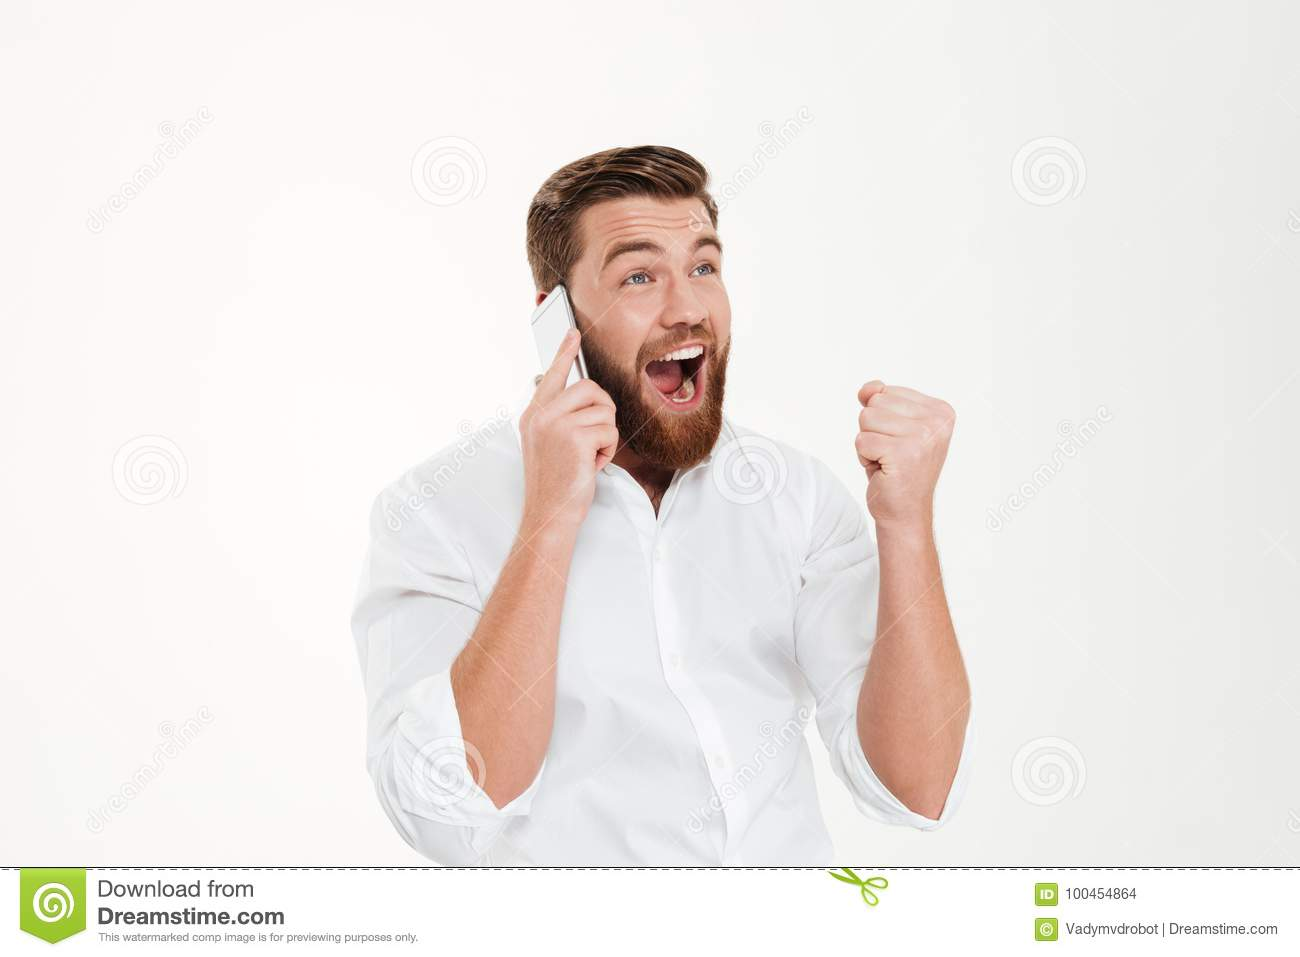phone: (527, 283, 599, 441)
talk: (519, 219, 733, 549)
